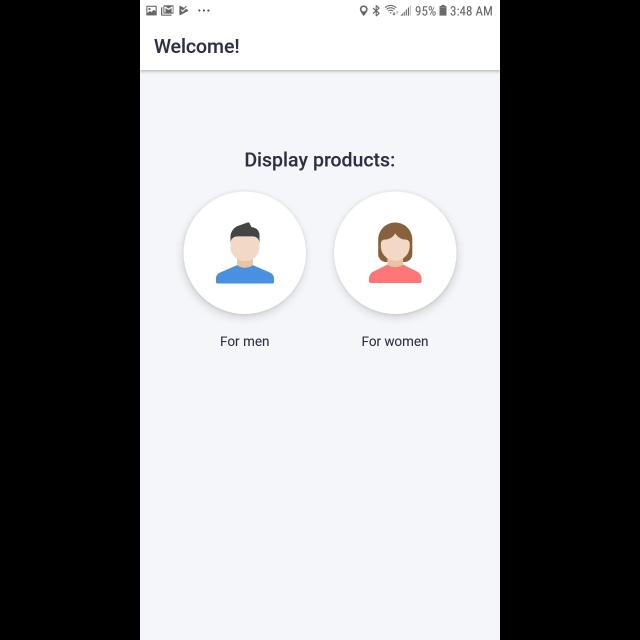image: (184, 192, 306, 314), (334, 192, 456, 314)
text: (246, 152, 394, 172), (154, 38, 240, 54), (362, 337, 428, 347), (222, 336, 270, 346)
uppertaskbar: (140, 1, 500, 18)
